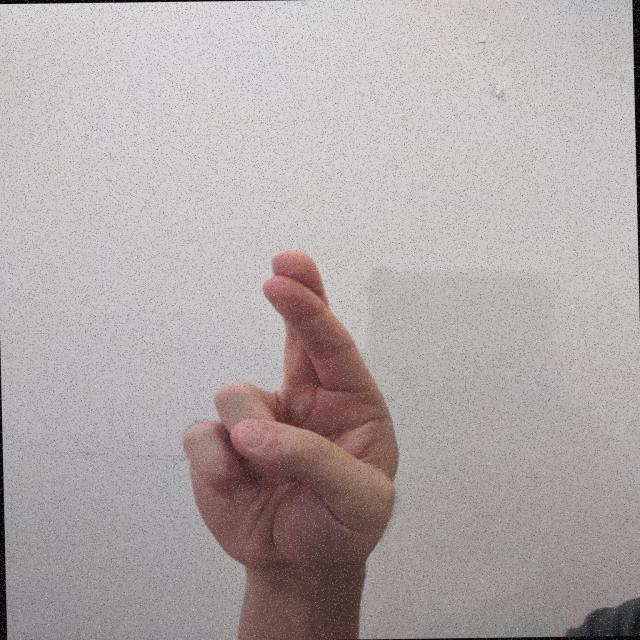R: (172, 244, 414, 579)
